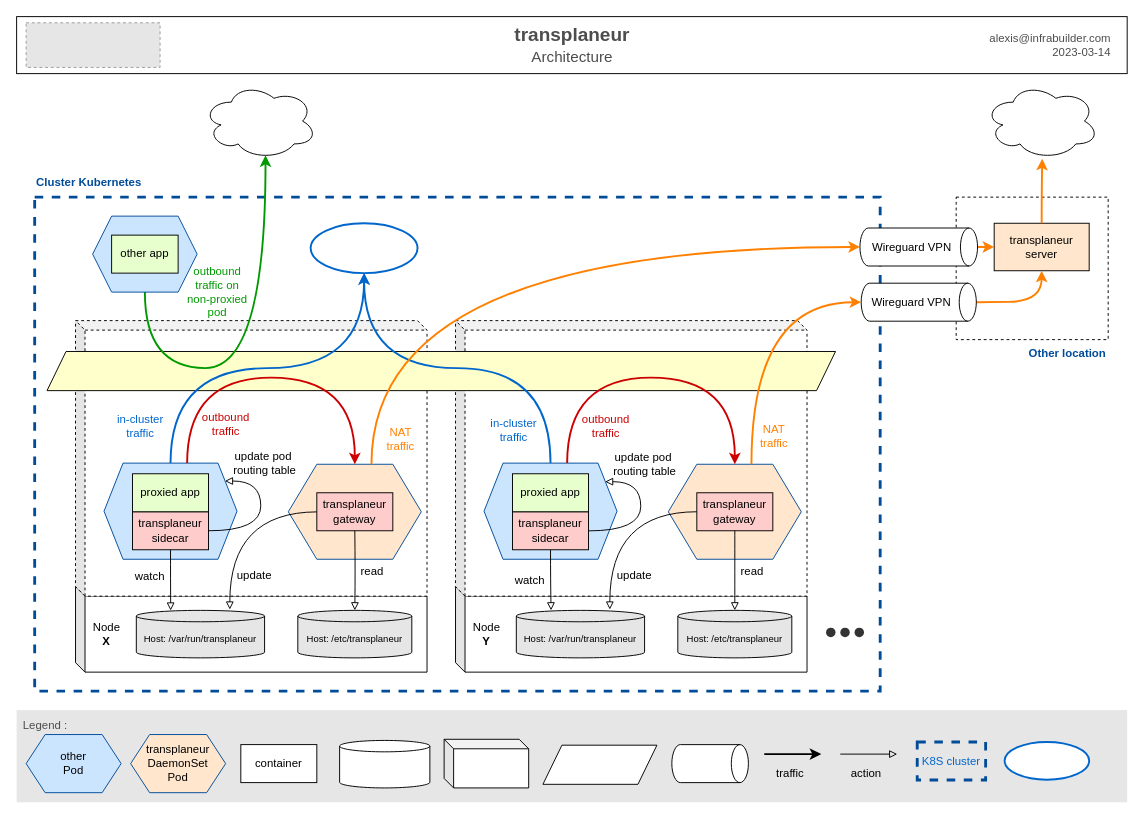
The diagram is 1144 pixels wide and 819 high, and some of its shapes have lost their labels. Grey dashed boxes stand in for pictures. The shapes that lost their labels are listed below. From the top down, each one's box as (x1, y1, x2, y2) in pixels, then its label:
(202, 82, 317, 159): WAN with local IP
(984, 82, 1099, 159): WAN with remote IP
(309, 222, 418, 274): Service ClusterIP
(46, 351, 836, 391): CNI (Kilo)
(339, 739, 430, 788): HostPath volume
(443, 738, 529, 788): Node
(542, 744, 657, 784): CNI Network
(671, 744, 748, 783): VPN
(1003, 741, 1090, 780): K8S Service
